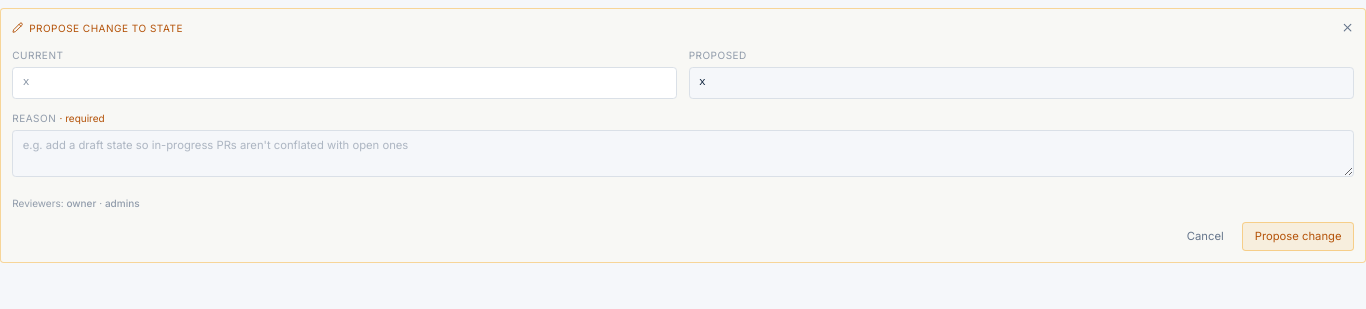
Test: ProposeChangeForm › shows server error and keeps form open on failure
The width and height of the screenshot is (1366, 309).
Replace the text in the text box with placeholder "add a draft state" with "because": coordinates (683, 153) [12, 130, 1354, 177]
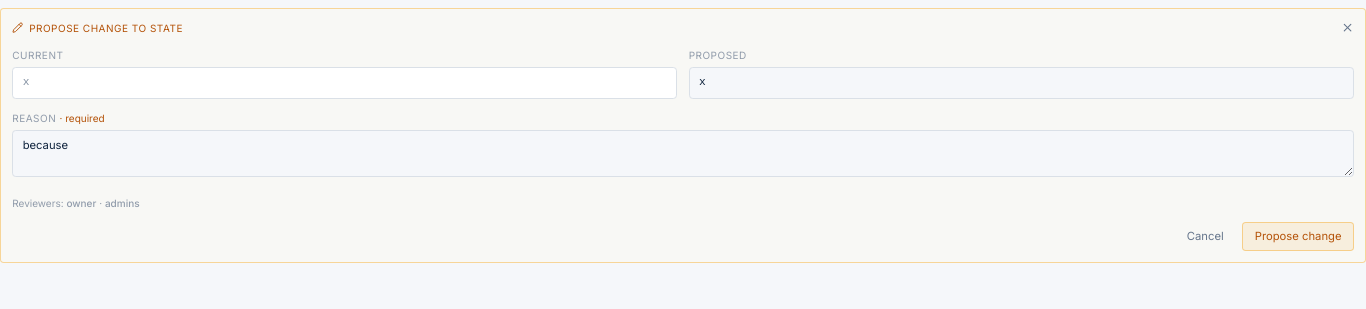
Click the button "Propose change": coordinates (1298, 236) [1242, 222, 1354, 251]
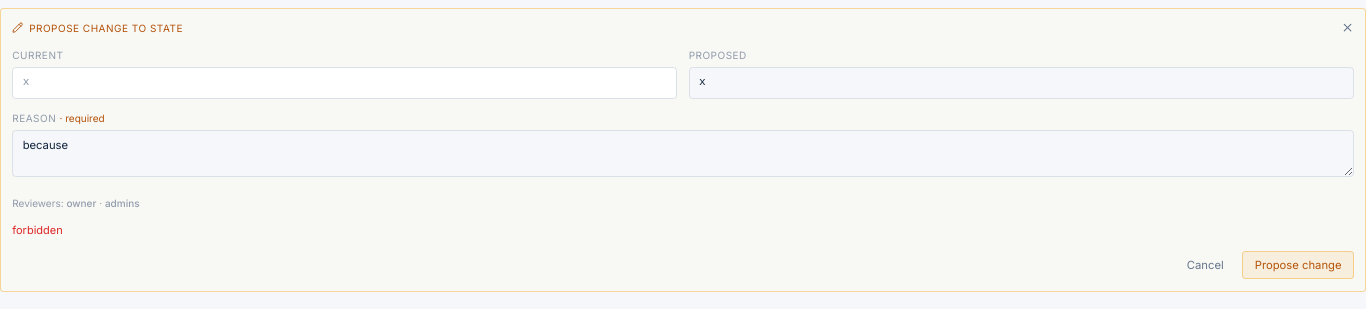
Expected: the text "forbidden" is shown, [12, 223, 63, 237]
